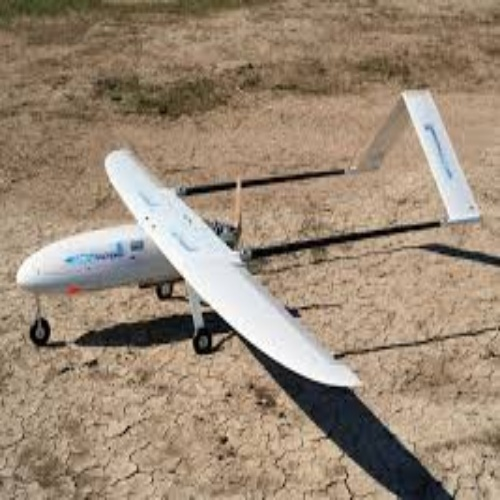uav706: (12, 89, 483, 394)
